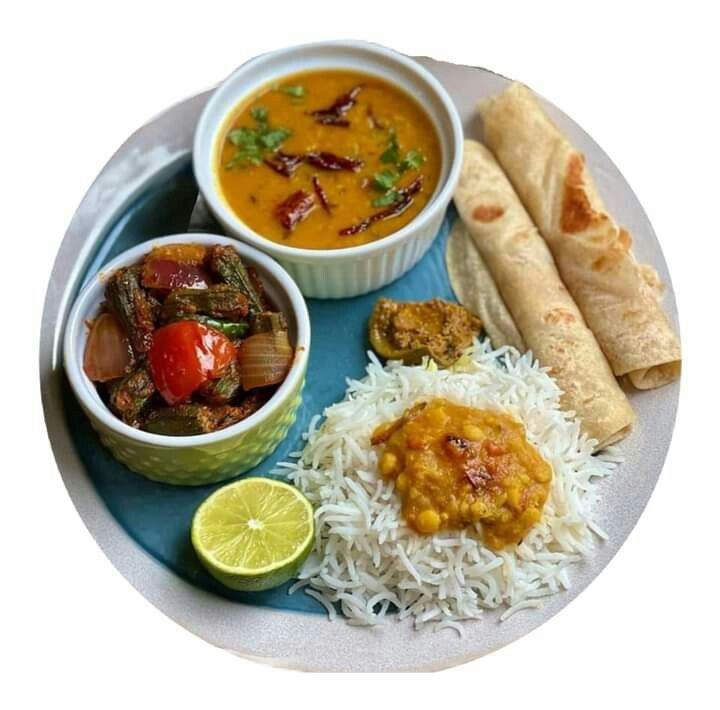bhat: (311, 350, 603, 621)
dal: (234, 58, 441, 246)
sabji: (97, 238, 301, 421)
